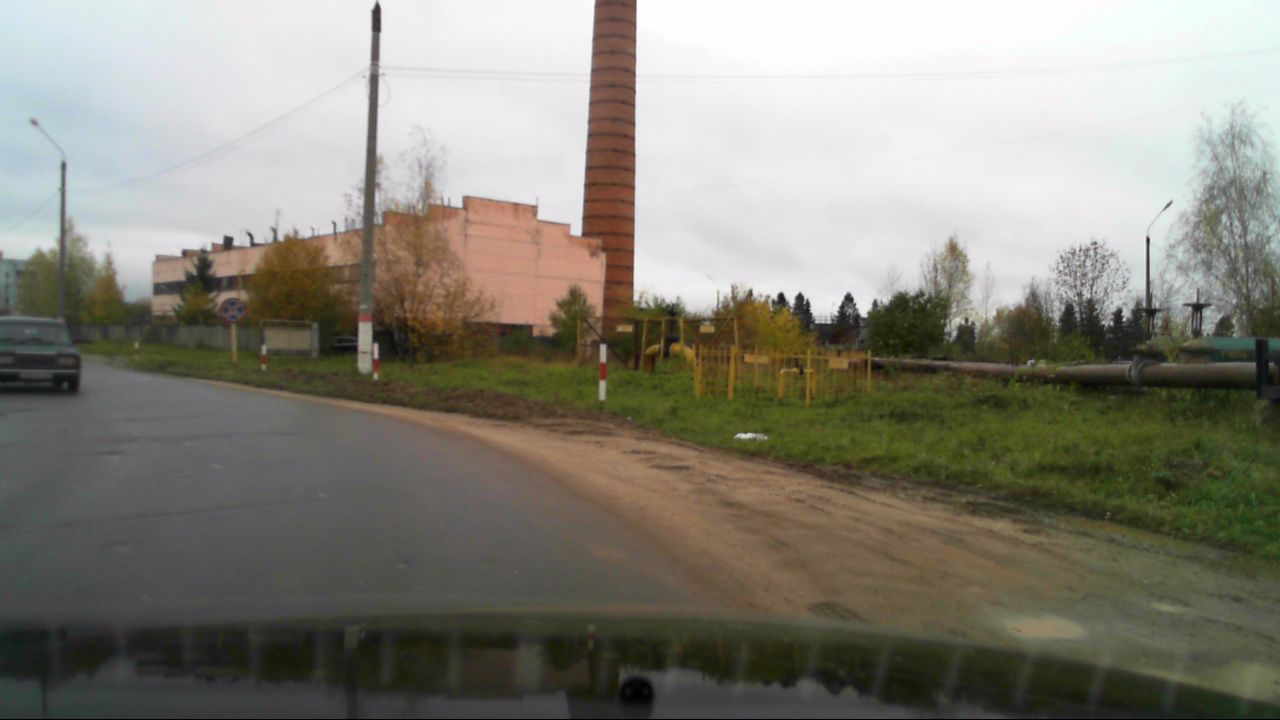No Parking: (219, 298, 246, 323)
